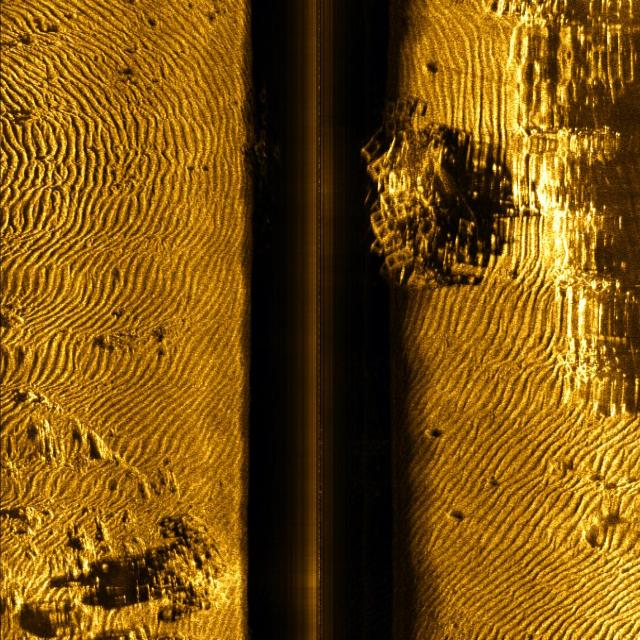artificial reef: (358, 103, 476, 300), (256, 84, 284, 191)
